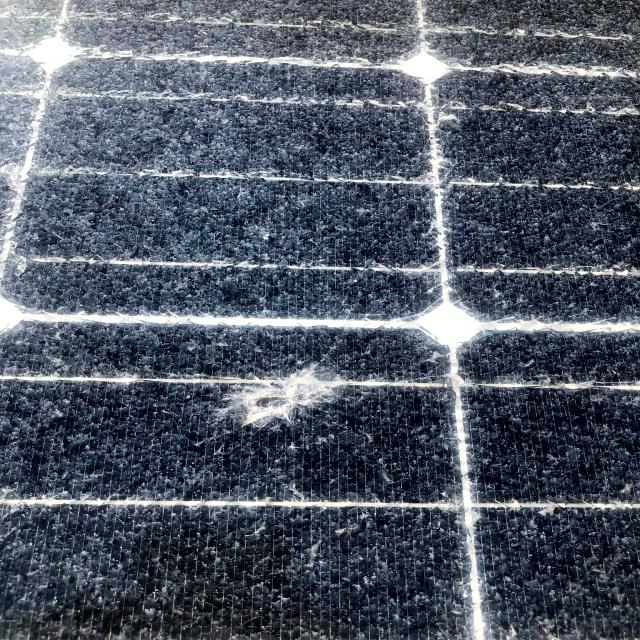hotspot: (209, 348, 422, 466)
